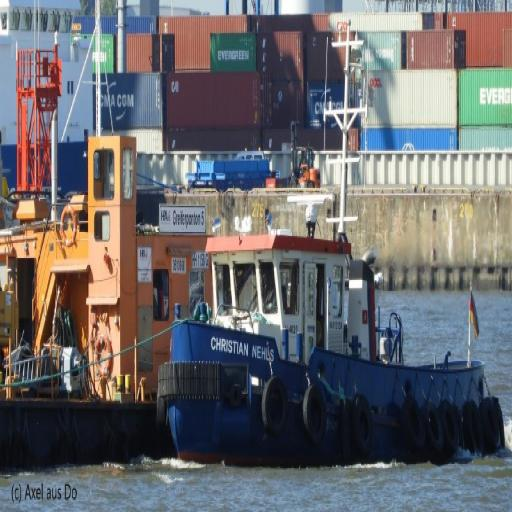tugboat: (153, 192, 508, 476)
